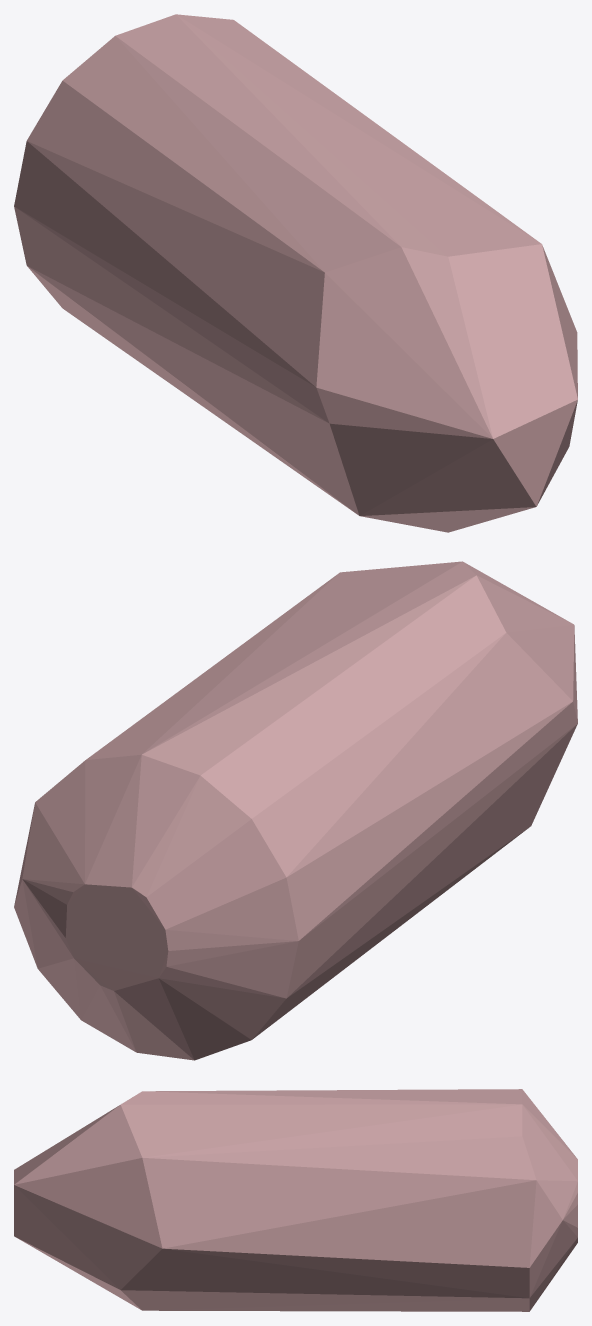
Rendered from food_beverage_bottledWater_f01.glb.
The picture shows the model from 3 angles, top to bottom: view 1: azimuth 30°, elevation 25°; view 2: azimuth 150°, elevation 25°; view 3: azimuth 270°, elevation 25°; orthographic projection. The views are drawn at different scales.
Visible parts, largest first — view 1: geometry_0; view 2: geometry_0; view 3: geometry_0.
Boxes of the visible parts, box(x1,y1,x2,y2) form: geometry_0: box(14, 14, 577, 532); geometry_0: box(14, 561, 577, 1060); geometry_0: box(14, 1089, 577, 1311).
Size of the model in its own units: 0.1919 by 0.1896 by 0.48.
